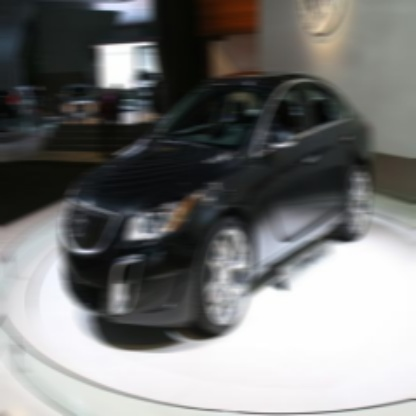Vehicle: (61, 73, 374, 338)
